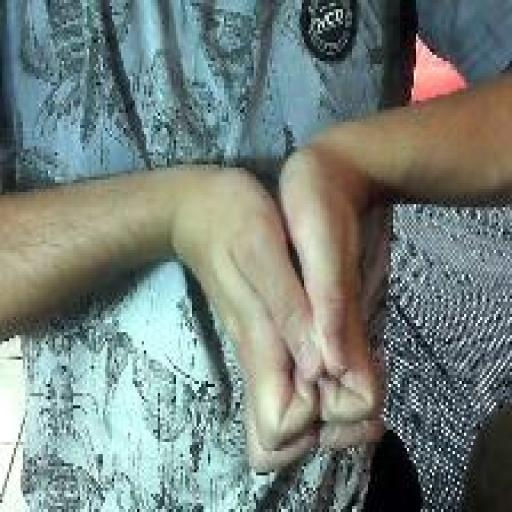I -boar-: (192, 140, 386, 479)
